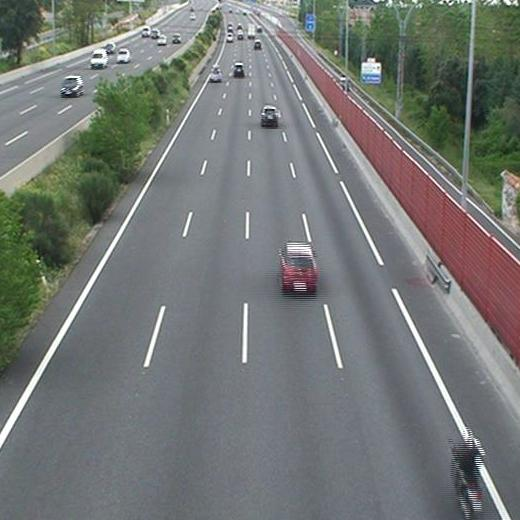car: (282, 244, 316, 290), (261, 106, 278, 124), (210, 69, 221, 82), (234, 64, 245, 74), (253, 41, 261, 49)
motorcycle: (450, 431, 484, 518)
